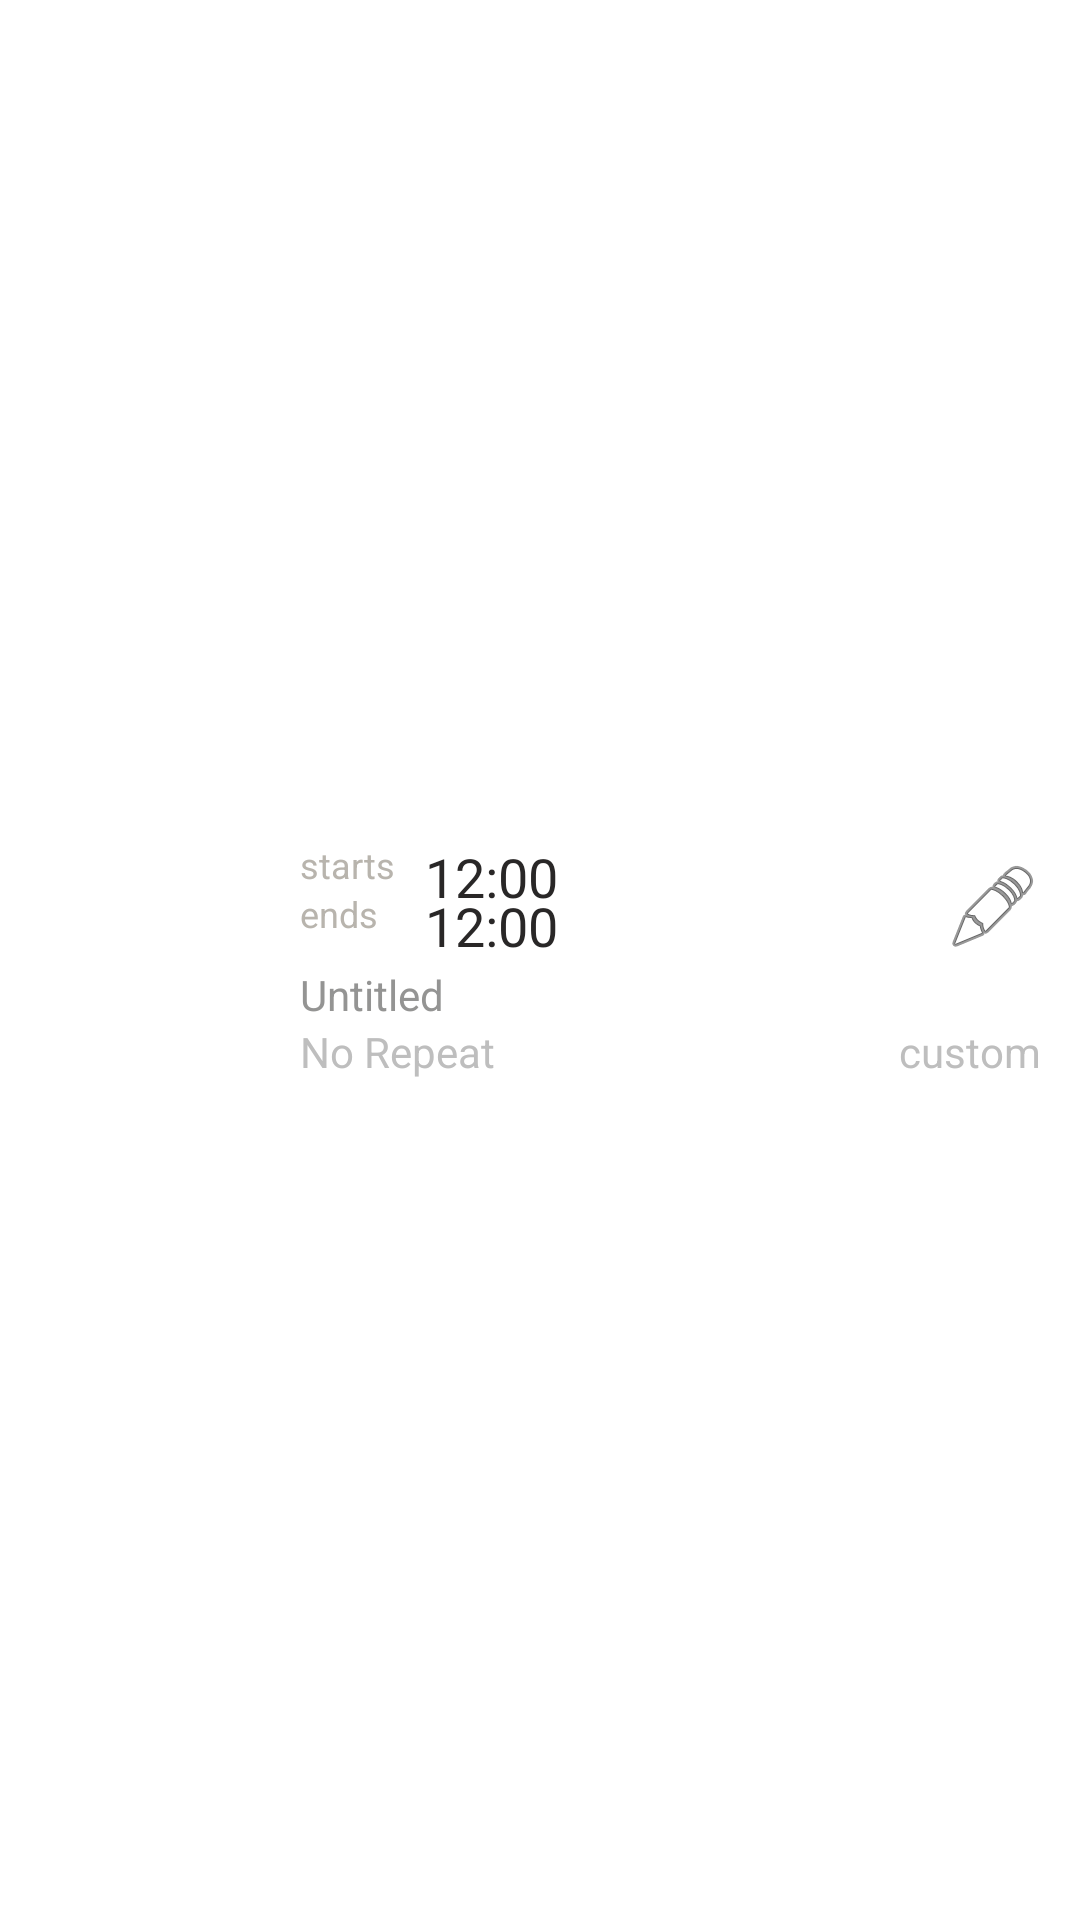

Where to tap for icons on this 1080×1920 app screen, as [x,y]:
edit: [992,906]
